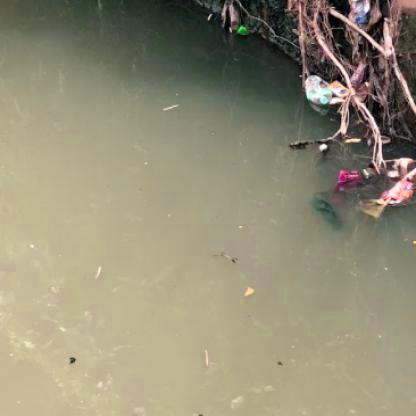Plastic: (301, 69, 330, 109)
Trash: (309, 190, 347, 233), (330, 165, 364, 194), (330, 76, 350, 104)
